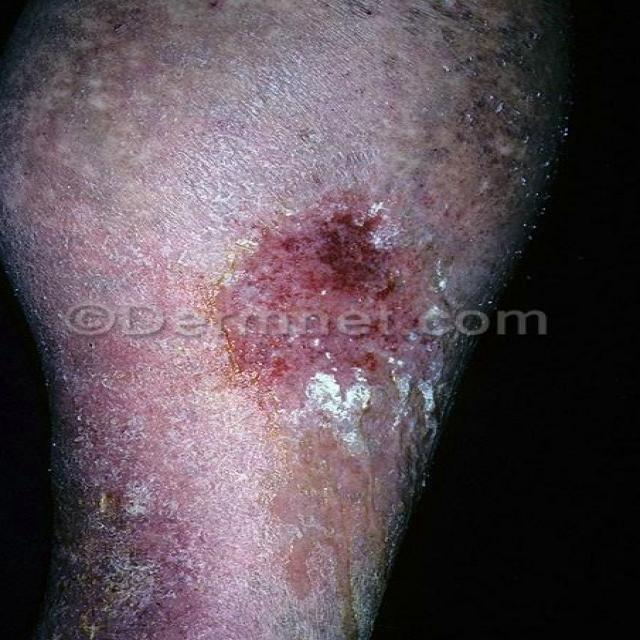Eczema: (6, 7, 489, 567)
